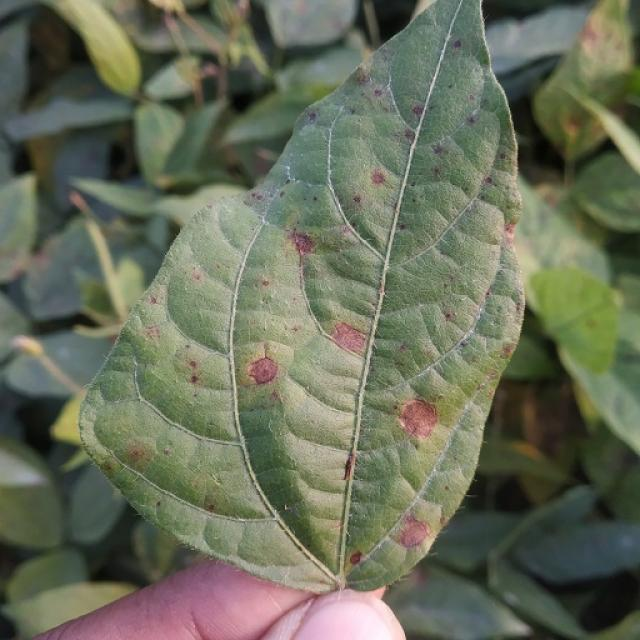Anthracnose: (399, 395, 437, 445), (330, 321, 368, 356), (399, 517, 431, 548), (247, 356, 279, 386), (122, 439, 152, 469), (289, 230, 314, 256), (342, 453, 355, 480), (144, 324, 160, 340), (370, 170, 386, 185), (355, 68, 370, 84), (334, 576, 347, 592), (349, 551, 363, 565), (504, 221, 517, 236), (501, 344, 514, 358), (411, 104, 424, 117), (484, 286, 494, 302), (432, 144, 444, 156), (403, 129, 415, 141), (102, 463, 114, 474), (211, 476, 222, 488), (191, 270, 202, 281), (398, 418, 408, 430), (307, 111, 317, 122), (466, 115, 476, 125), (373, 88, 383, 98), (252, 192, 263, 201), (206, 503, 216, 512), (452, 40, 462, 49), (432, 167, 441, 177), (149, 295, 158, 304), (444, 312, 453, 321), (439, 515, 447, 525), (378, 283, 385, 294), (190, 375, 199, 383), (353, 195, 361, 204), (189, 360, 197, 369), (261, 279, 269, 287), (485, 176, 493, 184), (292, 325, 300, 332), (499, 152, 506, 160), (349, 107, 356, 115), (399, 224, 406, 231), (460, 341, 467, 348), (410, 181, 417, 188), (284, 178, 291, 185), (156, 501, 162, 508), (312, 195, 318, 202)
Blackgram: (80, 0, 524, 591)
